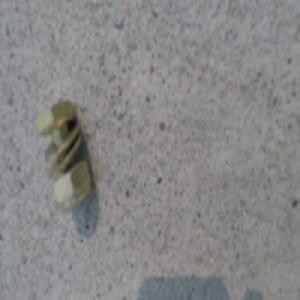BoltNutSet: (49, 107, 103, 215)
